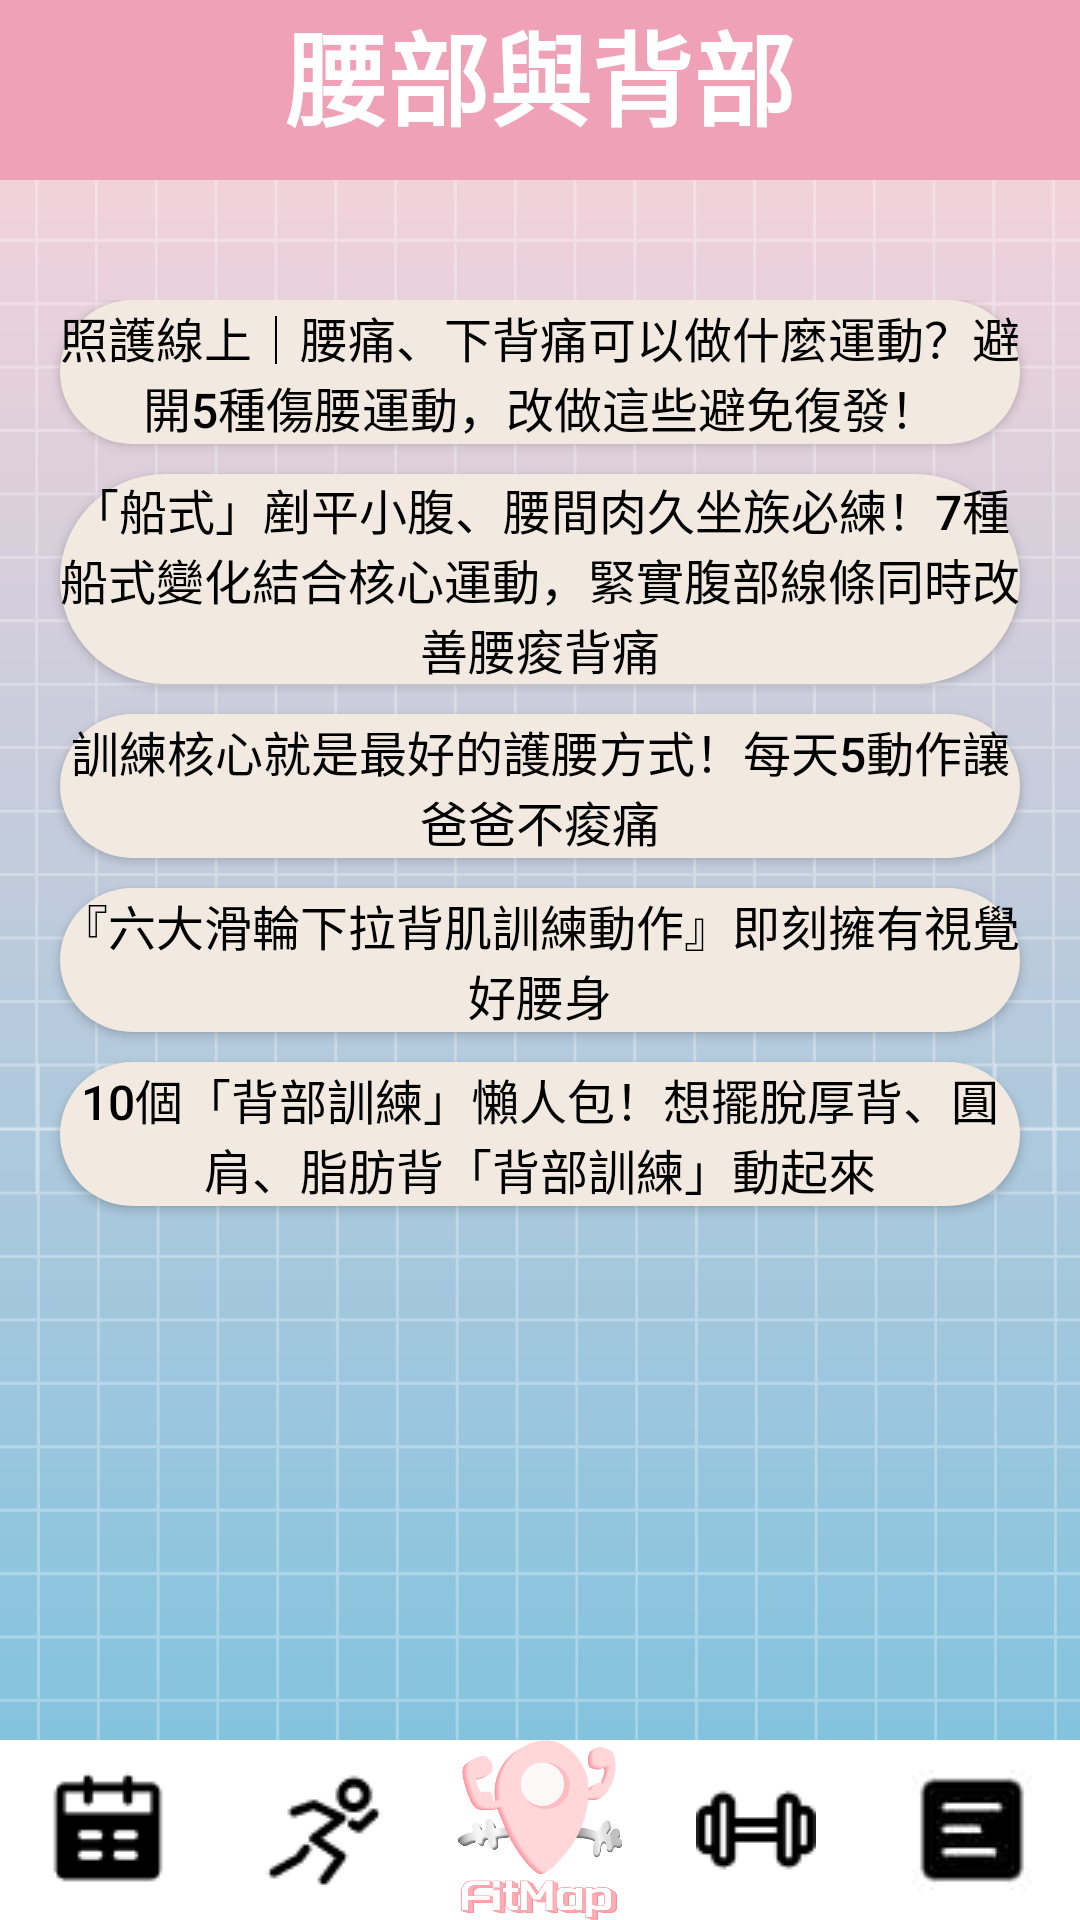

Icon click points for this 1080px×1920px phone screenshot, format [x,y]:
article: [972,1830]
reservation: [108,1828]
run: [324,1830]
